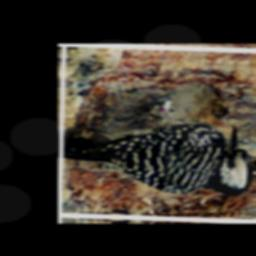Woodpecker: (59, 82, 256, 204)
